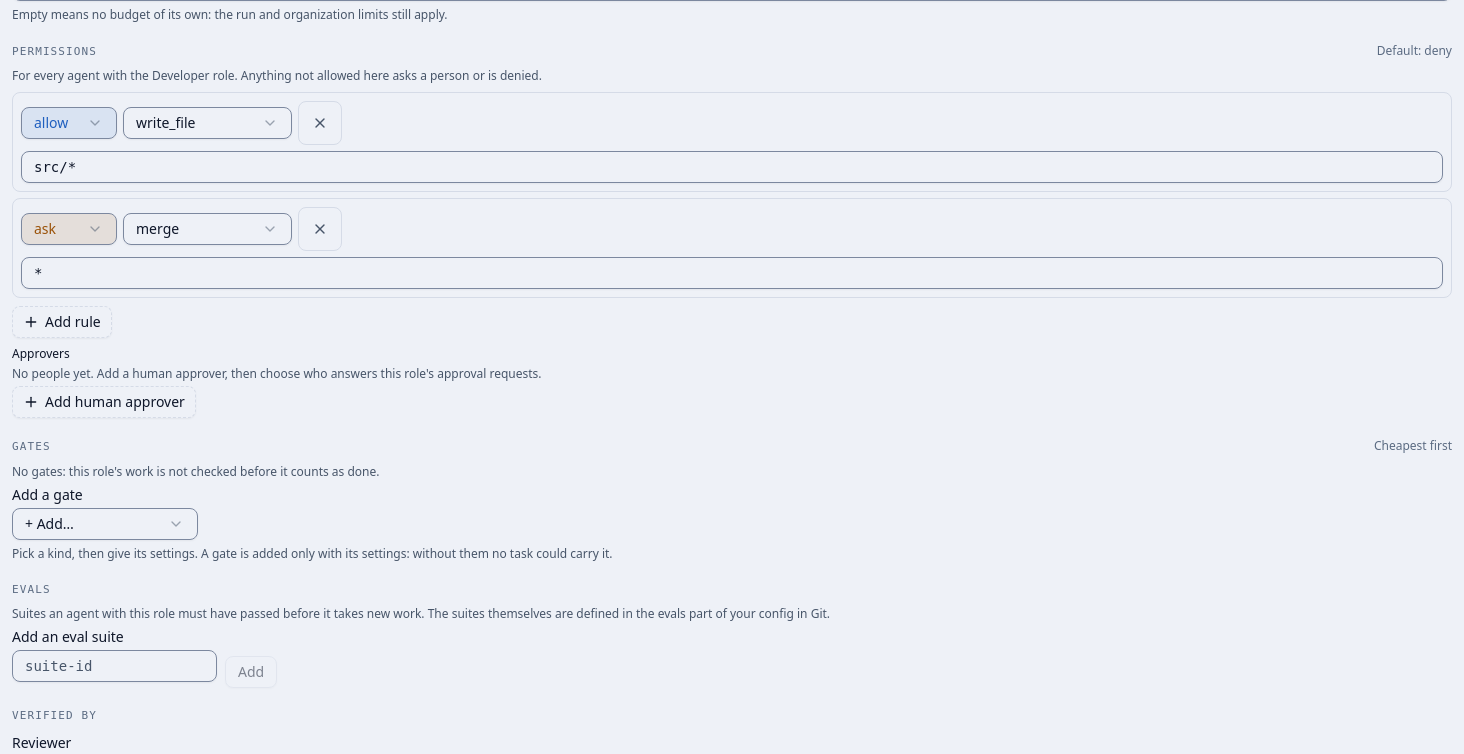
Test: Inspector › adds a gate only once its settings are given (issue #1407)
(page scrolled)
Expected: the text "No gates: this role's work is not checked" is shown, [12,462,380,480]
Select "Independent verifier" in the dropdown labelled "Add a gate" at (105, 524), box [12,508,198,540]
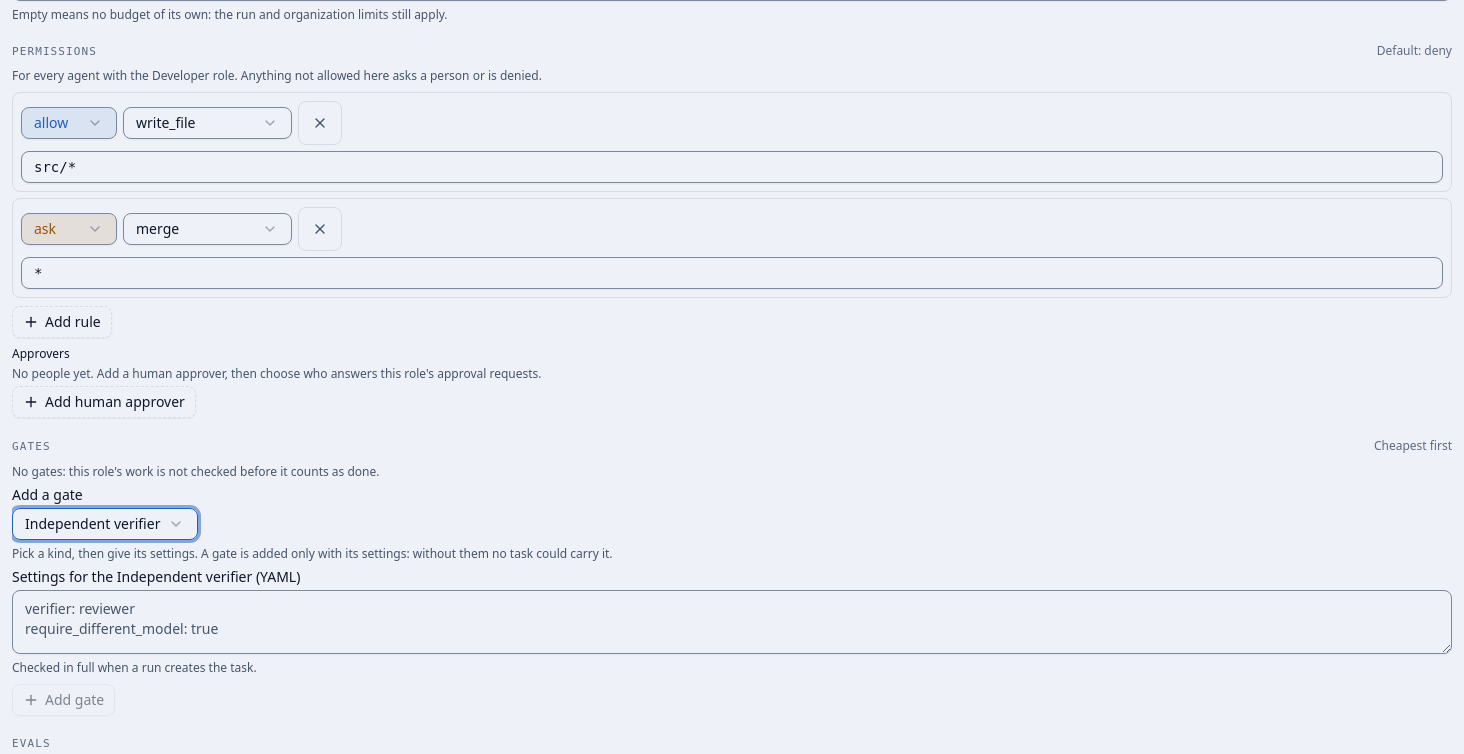
Result: the button "Add gate" is disabled at [12,684,115,716]
Type "- not a map" into the text box labelled "Settings for the Independent verifier (YAML)" at (732, 622), box [12,590,1452,654]
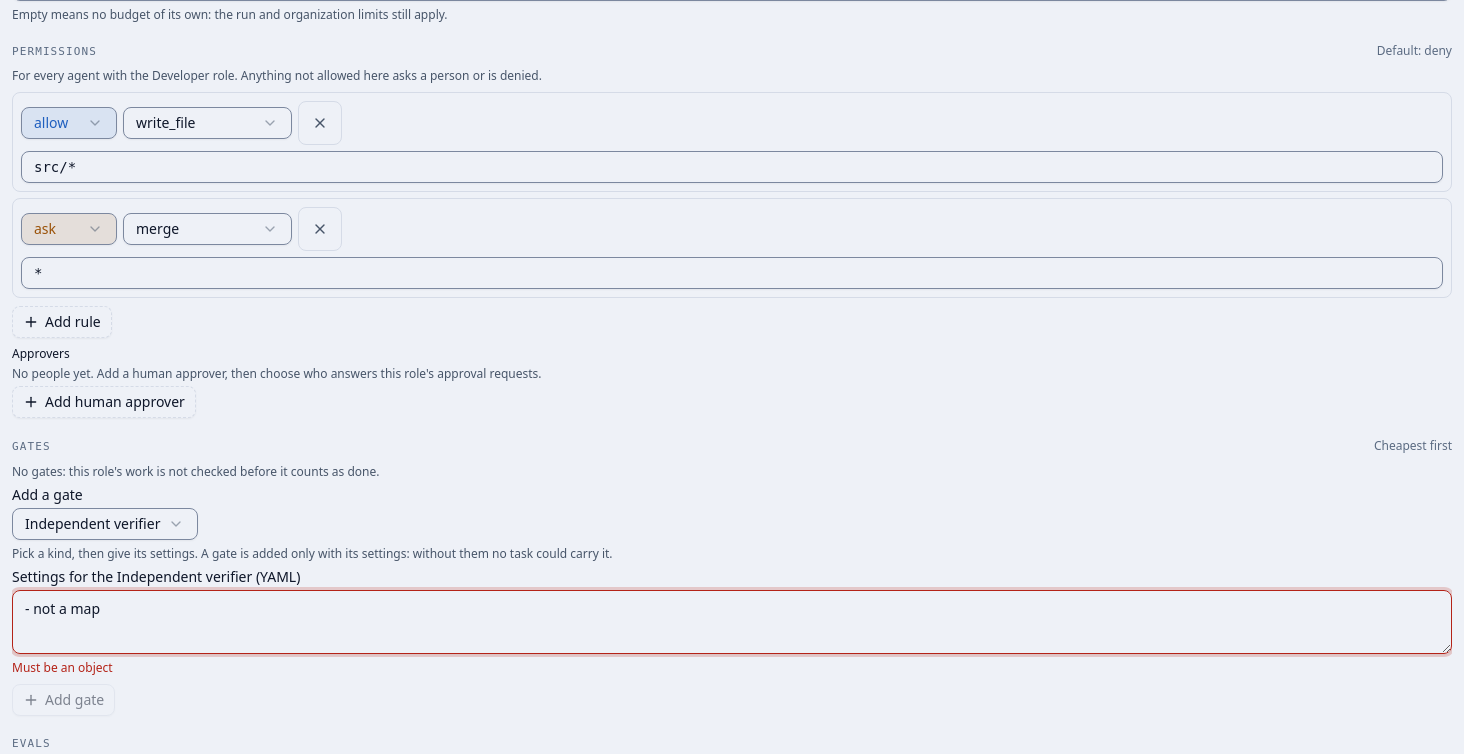
Result: the button "Add gate" is disabled at [12,684,115,716]
Result: the text "Must be an object" is shown at [12,658,113,676]
Replace the text in the text box labelled "Settings for the Independent verifier (YAML)" with "verifier: reviewer" at (732, 622), box [12,590,1452,654]
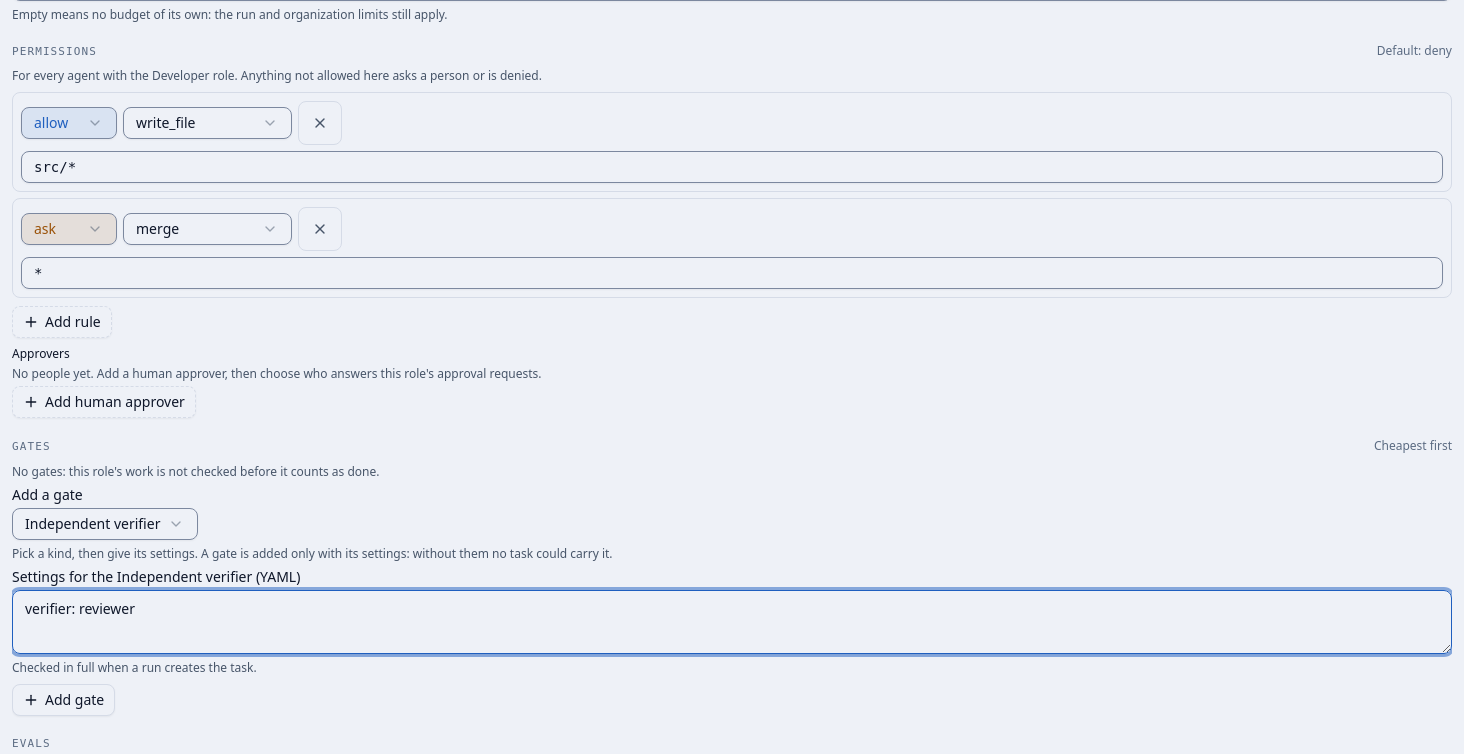
Click the button "Add gate" at (64, 700), box [12,684,115,716]
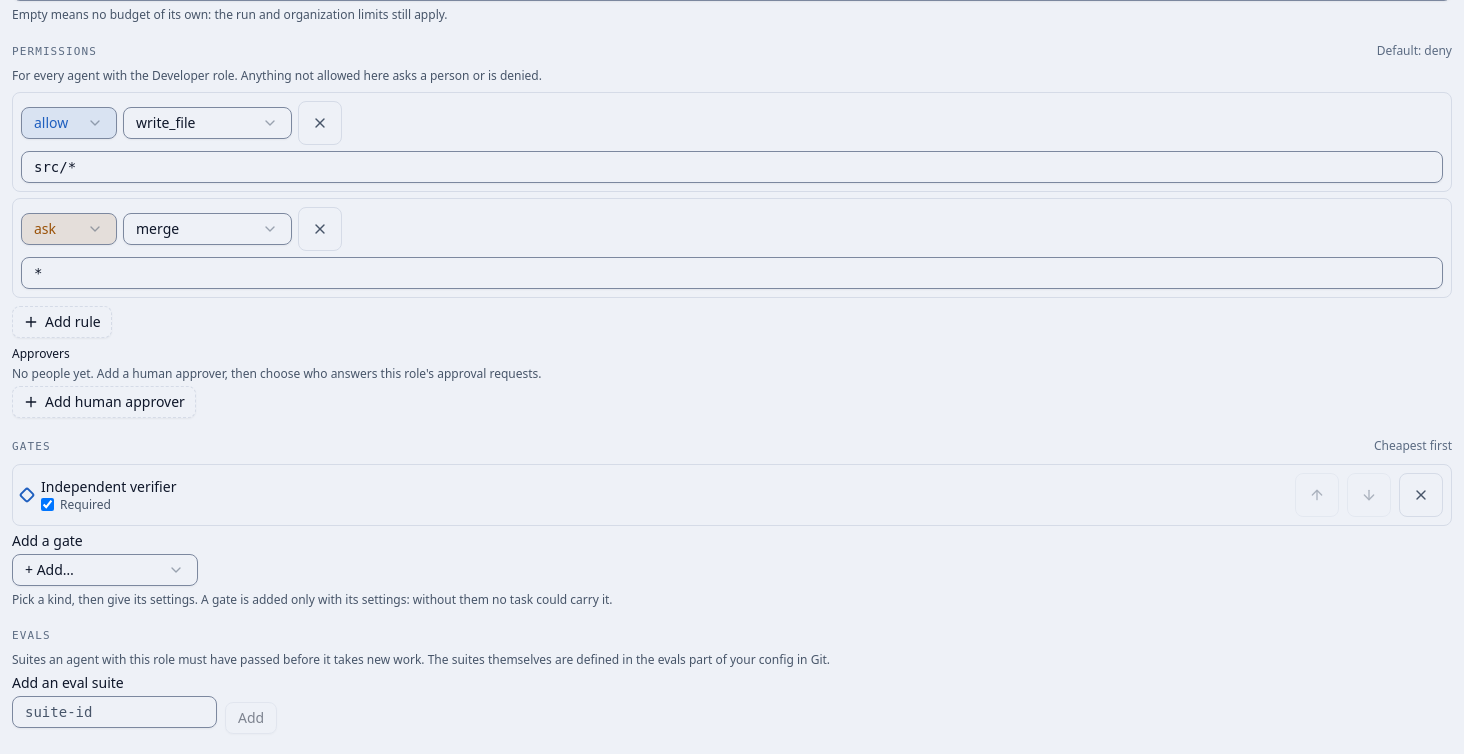
Result: the button named "Remove Independent verifier" is shown at [1399,472,1443,516]
Result: the button "Add gate" is gone
